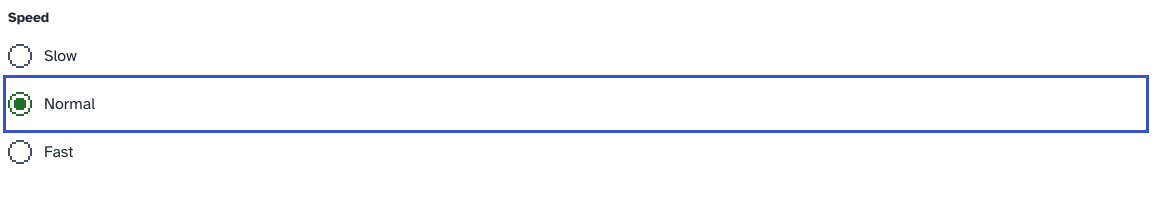
it: Keyboard and ARIA checks › Radio: navigates and selects inside RadioGroup fieldset
Expected: the radio button labelled "Normal" is checked, [8, 92, 32, 116]
Press Arrowdown
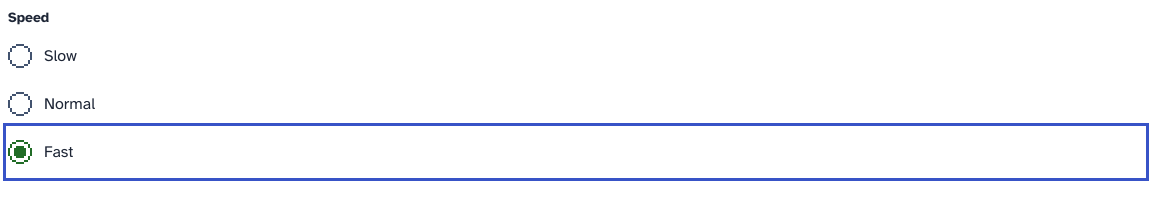
Result: the radio button labelled "Fast" is checked at [8, 140, 32, 164]
Click the radio button labelled "Slow" at (20, 56), box [8, 44, 32, 68]
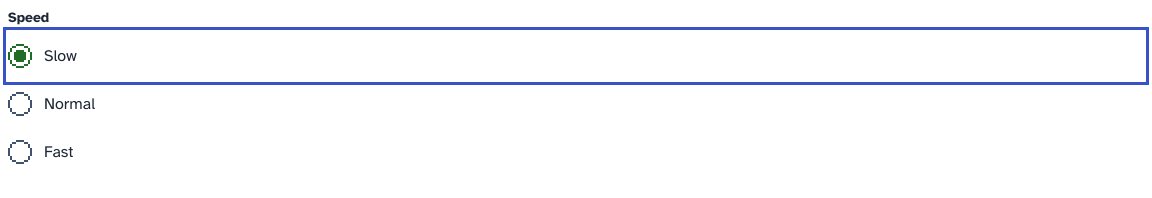
Result: the radio button labelled "Slow" is checked at [8, 44, 32, 68]
